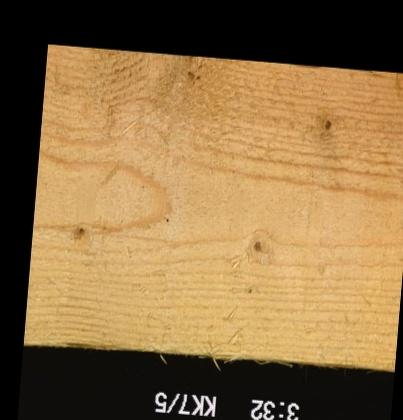small_knot: (315, 114, 342, 138), (66, 219, 87, 245), (247, 236, 262, 254)
